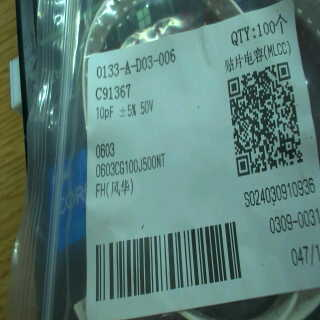10pF: (92, 103, 116, 123)
